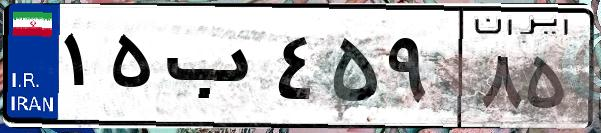1: (57, 26, 110, 100)
4: (270, 28, 330, 110)
5: (330, 28, 385, 110), (525, 38, 570, 115), (110, 28, 158, 98)
8: (475, 38, 525, 113)
9: (385, 28, 445, 110)
ب: (158, 20, 270, 120)
